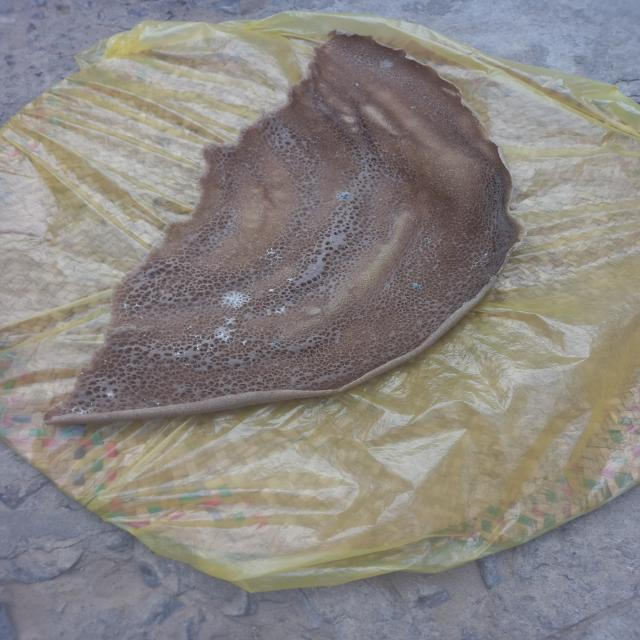injera_mold: (216, 285, 257, 309), (208, 321, 235, 348), (275, 300, 289, 325), (266, 248, 286, 260), (377, 58, 394, 71), (104, 390, 120, 400), (337, 192, 352, 202), (70, 405, 88, 413), (192, 340, 203, 353), (409, 280, 420, 292), (267, 286, 277, 295), (423, 236, 434, 244), (268, 341, 280, 348), (125, 361, 135, 369), (173, 351, 183, 358), (285, 276, 295, 282), (186, 324, 196, 330), (240, 338, 248, 345), (152, 398, 160, 405), (482, 251, 489, 258), (123, 301, 130, 308), (184, 361, 192, 367), (295, 234, 306, 238), (194, 334, 205, 338), (471, 262, 476, 270), (354, 82, 360, 88), (282, 244, 291, 248), (134, 303, 140, 309), (184, 333, 193, 337), (102, 359, 108, 364), (406, 56, 412, 61), (193, 360, 200, 364), (491, 252, 497, 256), (183, 351, 187, 357), (207, 348, 214, 351), (169, 341, 176, 344), (80, 372, 85, 376), (269, 262, 273, 267), (411, 106, 416, 110), (251, 274, 259, 276), (312, 267, 316, 271), (259, 256, 263, 260), (171, 345, 176, 348), (187, 348, 191, 351), (260, 270, 263, 274), (265, 275, 271, 277), (316, 94, 318, 98), (274, 364, 278, 366)
